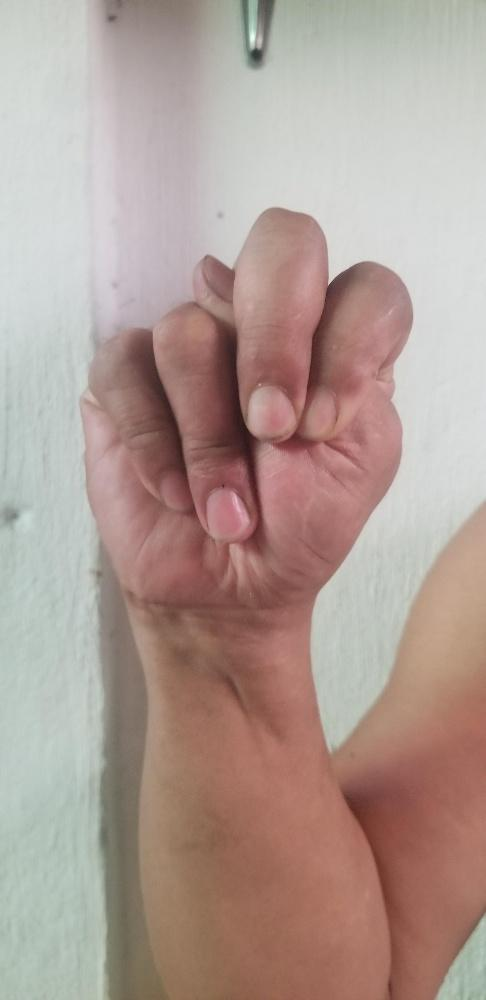n: (78, 205, 412, 601)
